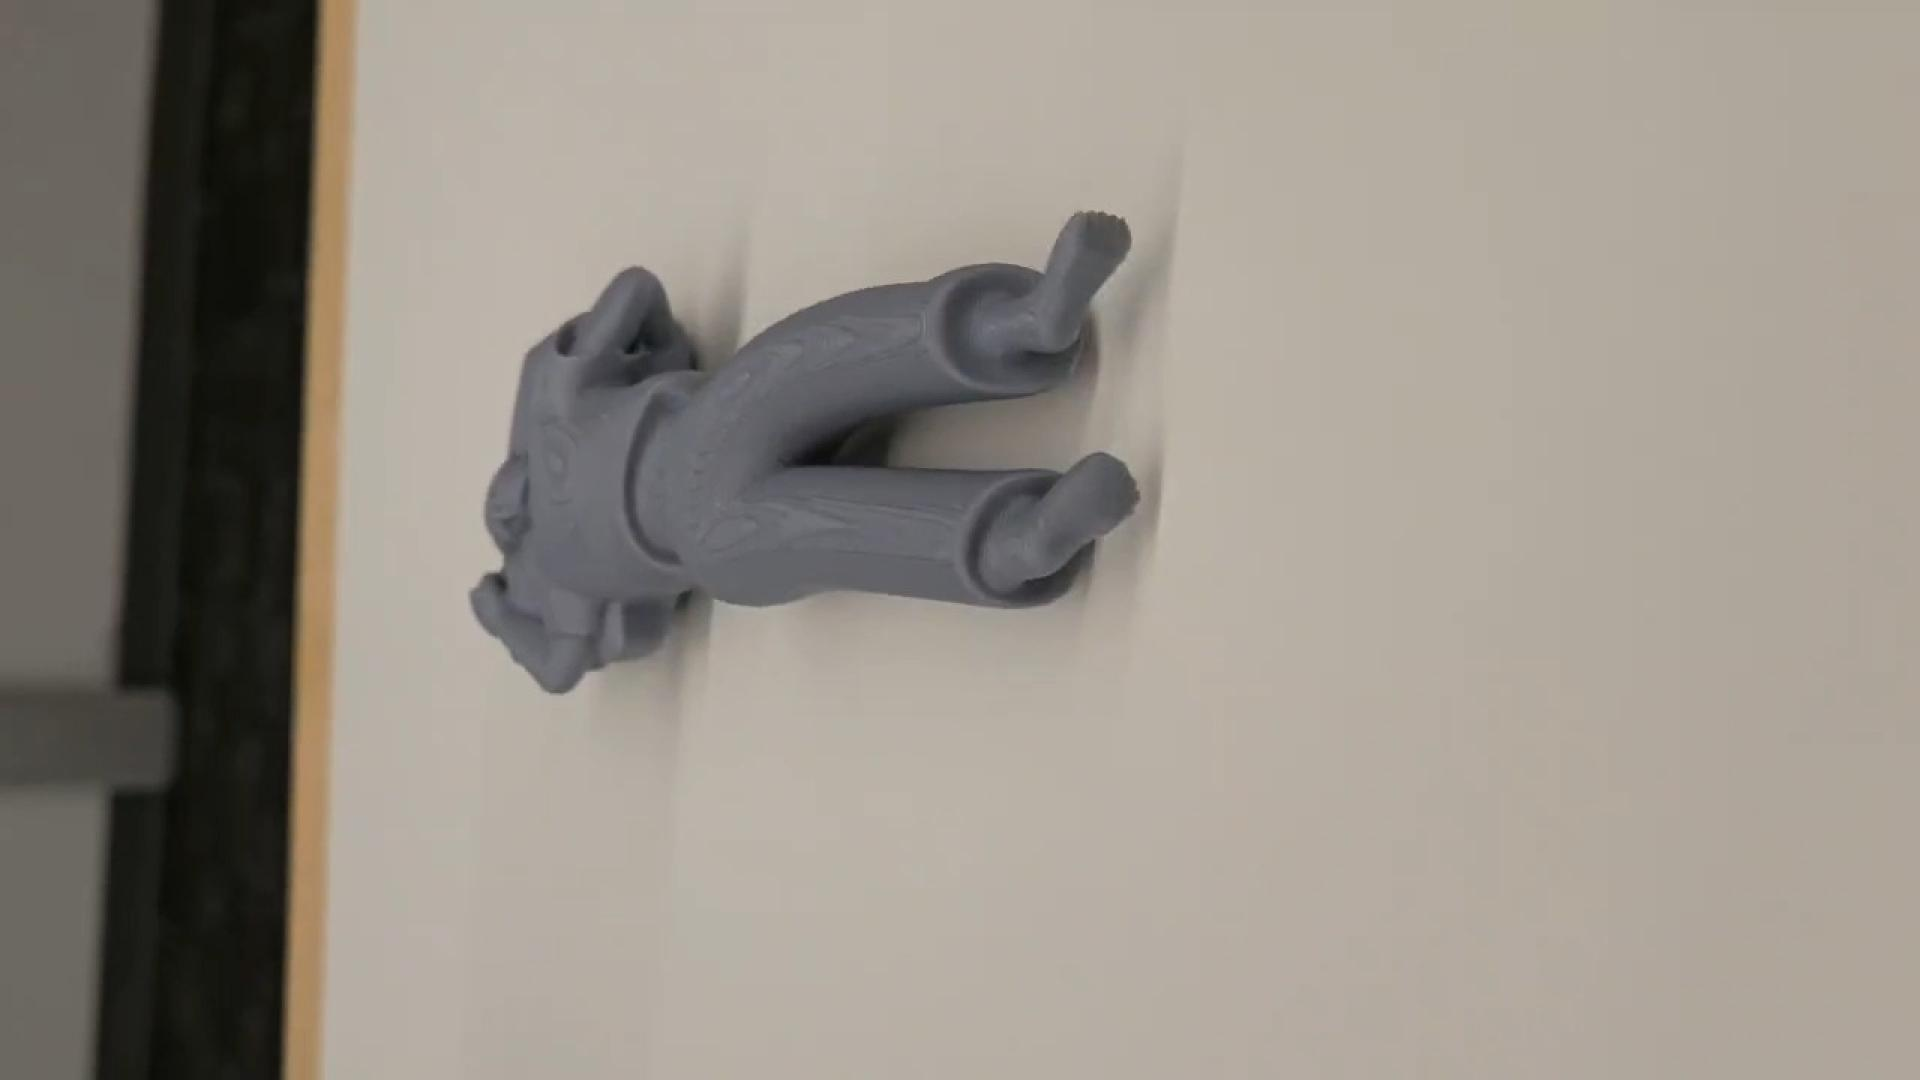Bad-style: (468, 207, 1142, 703)
